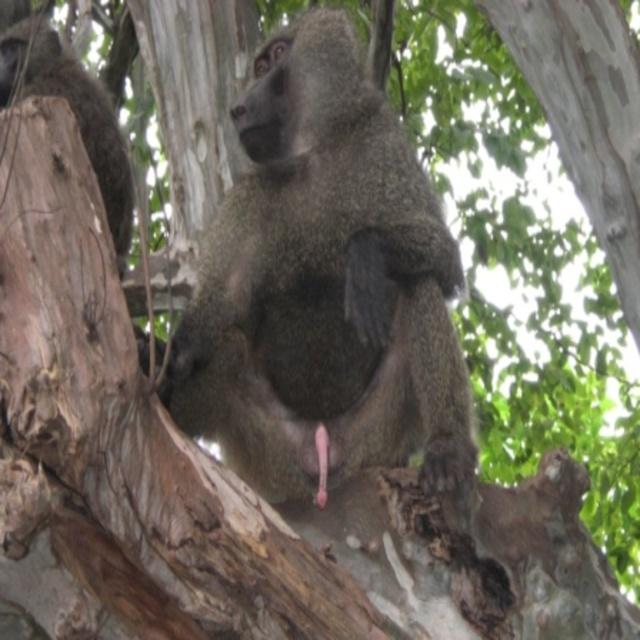Monkey: (133, 4, 480, 509)
